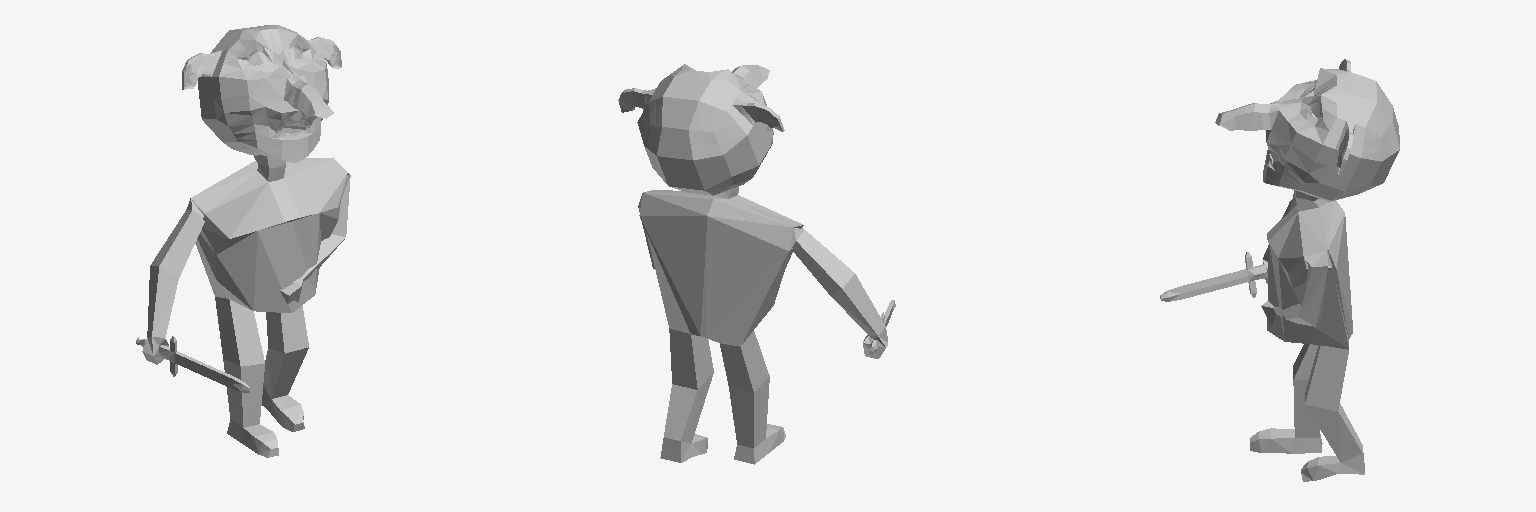
File: andrzejDying_000020.obj
3 renders of one model, left to right at view 1: azimuth 30°, elevation 25°; view 2: azimuth 150°, elevation 25°; view 3: azimuth 270°, elevation 25°, orthographic.
Parts seen in each view (by area): view 1: Cube; view 2: Cube; view 3: Cube.
Part boxes in pixels (left/top/right/bottom): Cube: left=136, top=25, right=350, bottom=457; Cube: left=618, top=64, right=895, bottom=464; Cube: left=1160, top=59, right=1399, bottom=481.
Size of the model in its own units: 5.82 by 9.42 by 5.21.